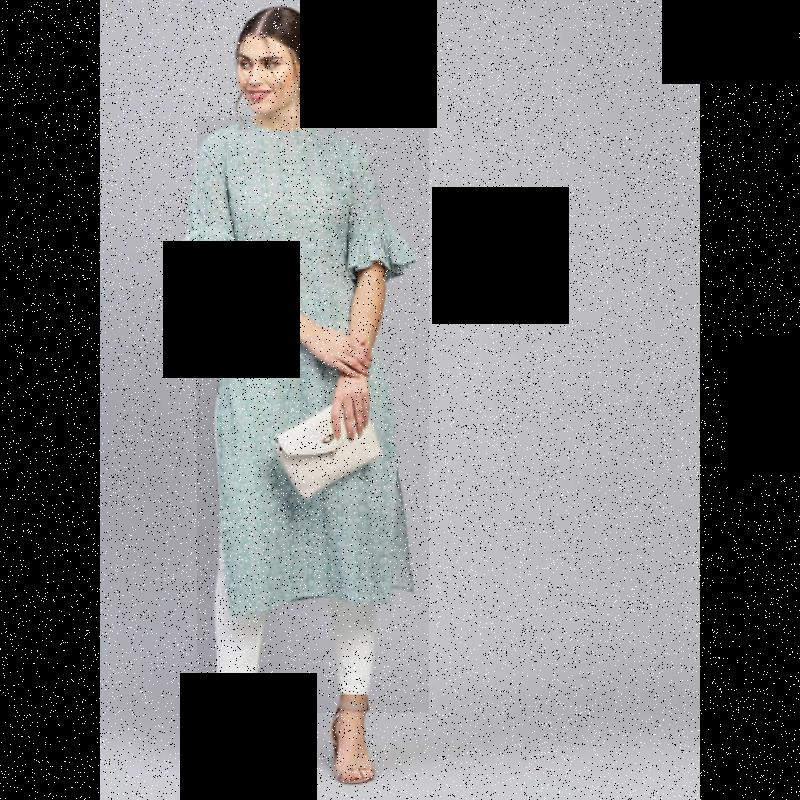Churidaar: (197, 117, 428, 713)
